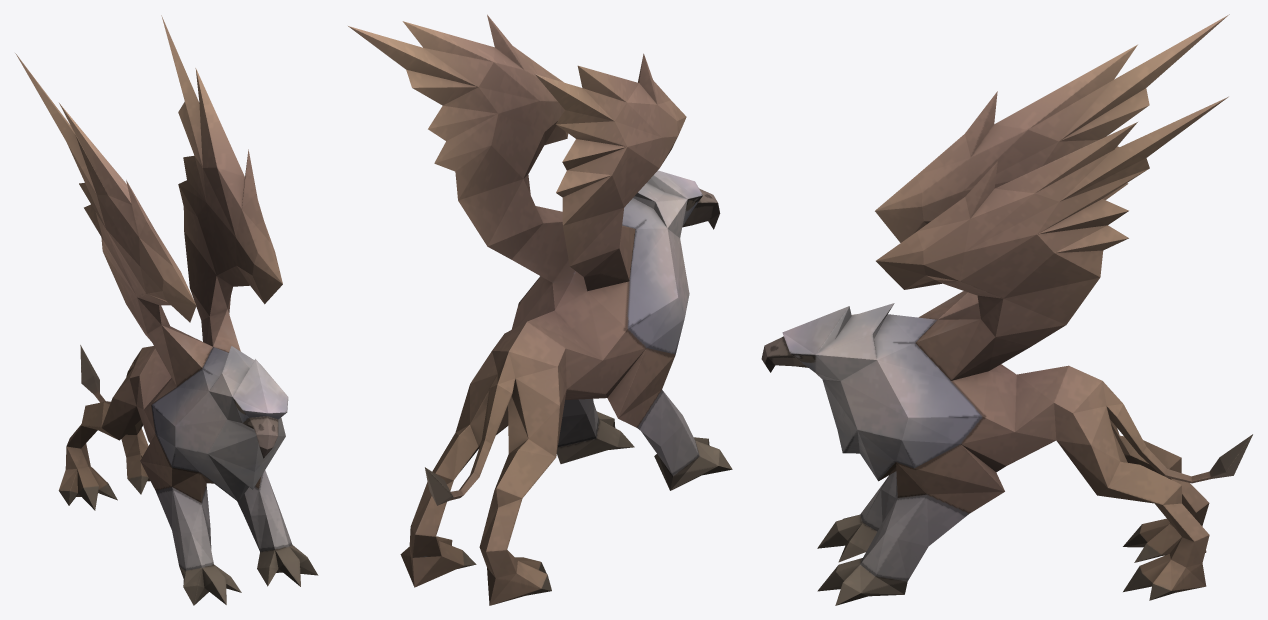
Rendered from griffin.obj.
3 views of the same model, side by side, from view 1: azimuth 30°, elevation 25°; view 2: azimuth 150°, elevation 25°; view 3: azimuth 270°, elevation 25° (orthographic). The views are drawn at different scales.
Parts seen in each view (by area): view 1: Griffin_Plane.001; view 2: Griffin_Plane.001; view 3: Griffin_Plane.001.
Part boxes in pixels (left/top/right/bottom): Griffin_Plane.001: left=15, top=15, right=318, bottom=605; Griffin_Plane.001: left=348, top=14, right=732, bottom=605; Griffin_Plane.001: left=761, top=14, right=1252, bottom=605.
Size of the model in its own units: 1.35 by 3.85 by 3.33.
